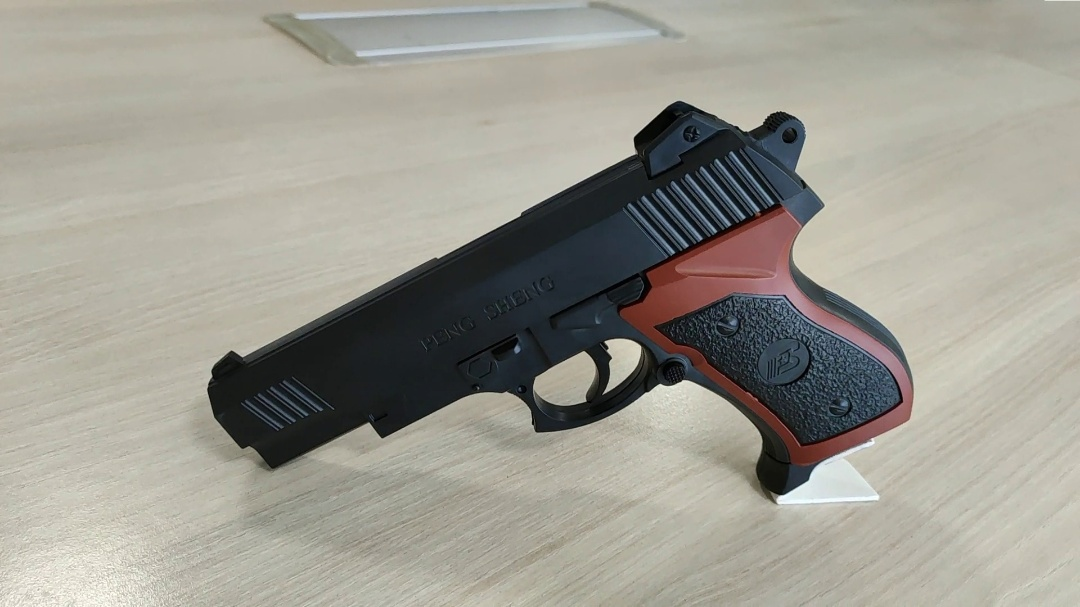gun: (198, 97, 921, 500)
